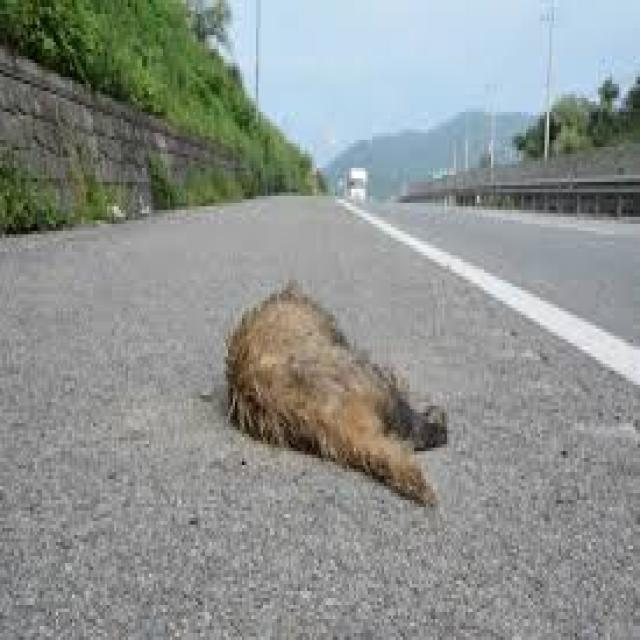cat: (209, 269, 455, 529)
